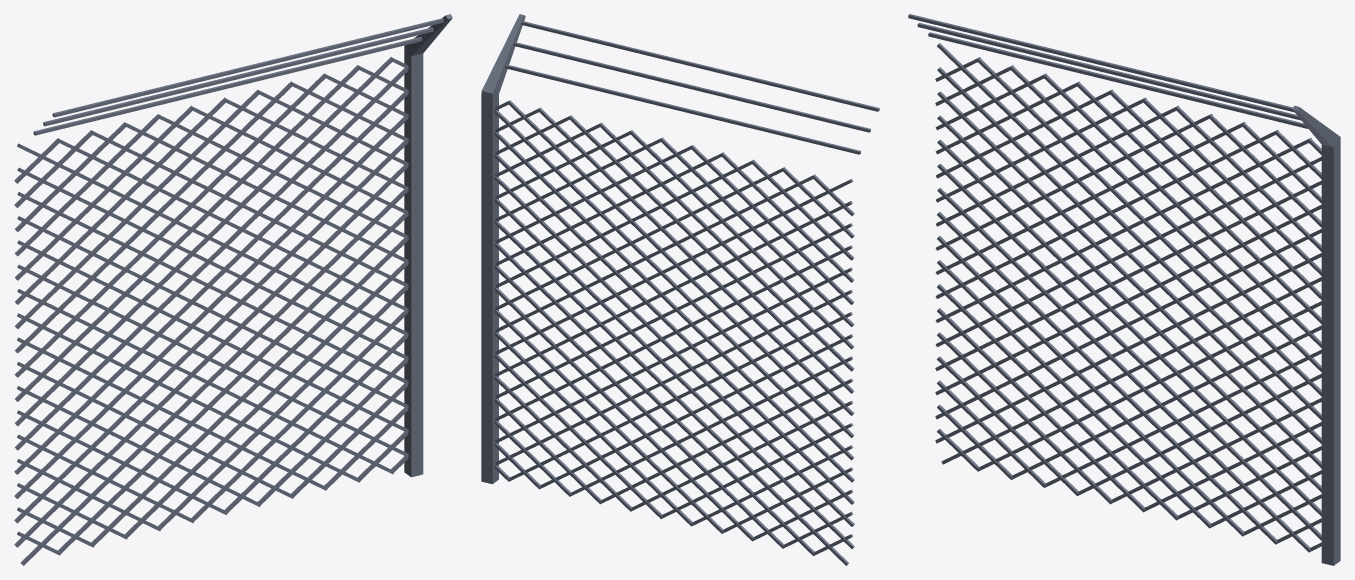
Rendered from fence_metal_R.fbx.
3 renders of one model, left to right at view 1: azimuth 30°, elevation 25°; view 2: azimuth 150°, elevation 25°; view 3: azimuth 330°, elevation 25°, orthographic. The views are drawn at different scales.
Visible parts, largest first — view 1: fence_metal_R; view 2: fence_metal_R; view 3: fence_metal_R.
Part boxes in pixels (x1=…): fence_metal_R: x1=14, y1=14, x2=452, y2=565; fence_metal_R: x1=481, y1=14, x2=879, y2=565; fence_metal_R: x1=908, y1=14, x2=1340, y2=565.
Bounding box in the file's own units: 436 × 499 × 74.61.
